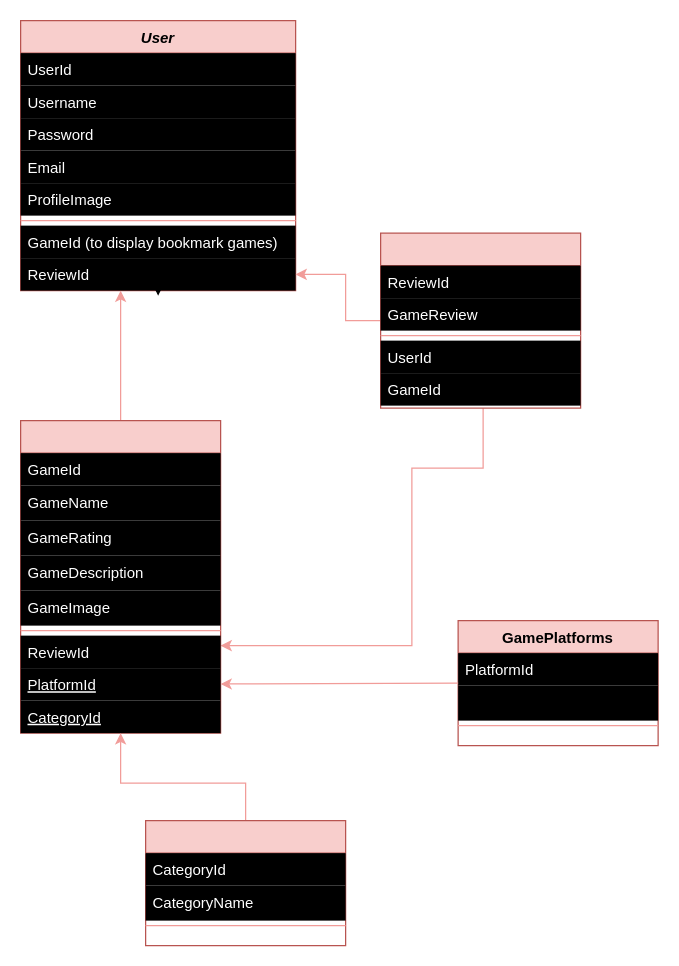
Some shapes in this 679 by 966 pixel diagram are drawn without their labels. Here are the shapes that lost their labels. From the top down, the box of each, then its label:
(379, 232, 581, 408): GameReviews
(19, 419, 221, 733): Games
(458, 685, 658, 720): PlatformName
(144, 819, 346, 946): GameCategory
